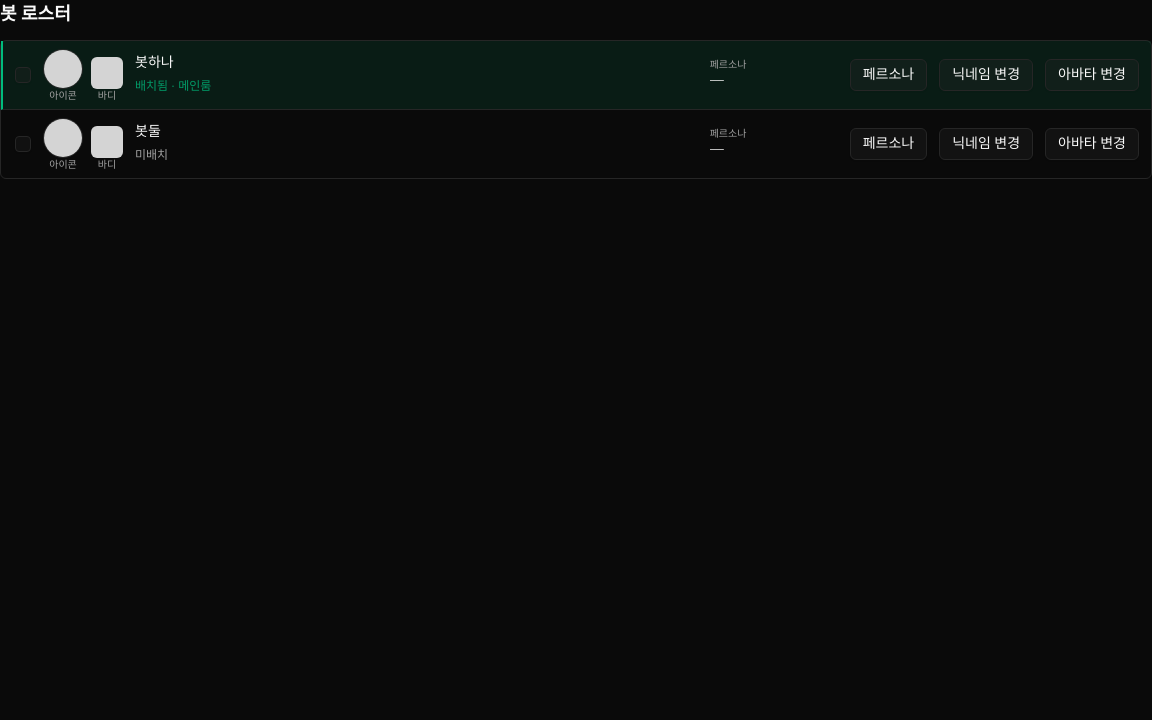
it: BotRoster › 배치된 봇 선택 시 제거 버튼 비활성 + 경고 노출
Expected: the text "봇하나" is shown, left=135, top=55, right=174, bottom=70
Click the checkbox named "봇하나 선택" at (23, 75), box left=15, top=67, right=31, bottom=83
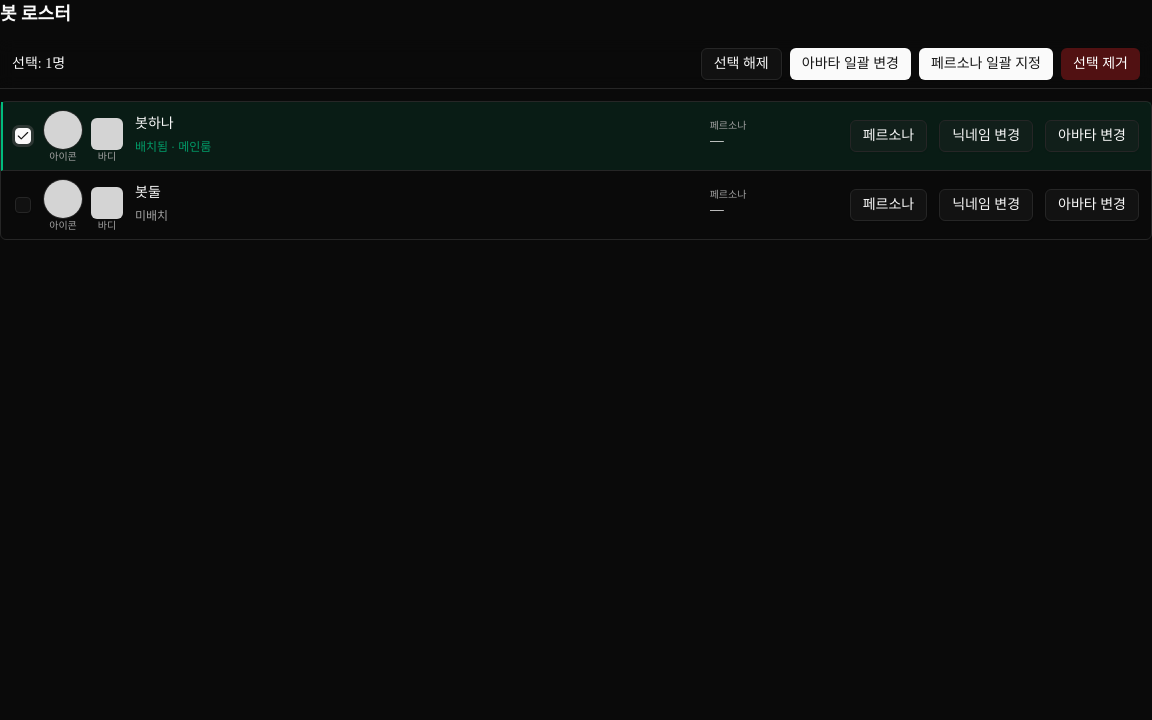
Click the button "선택 제거" at (1100, 64), box left=1061, top=48, right=1140, bottom=80
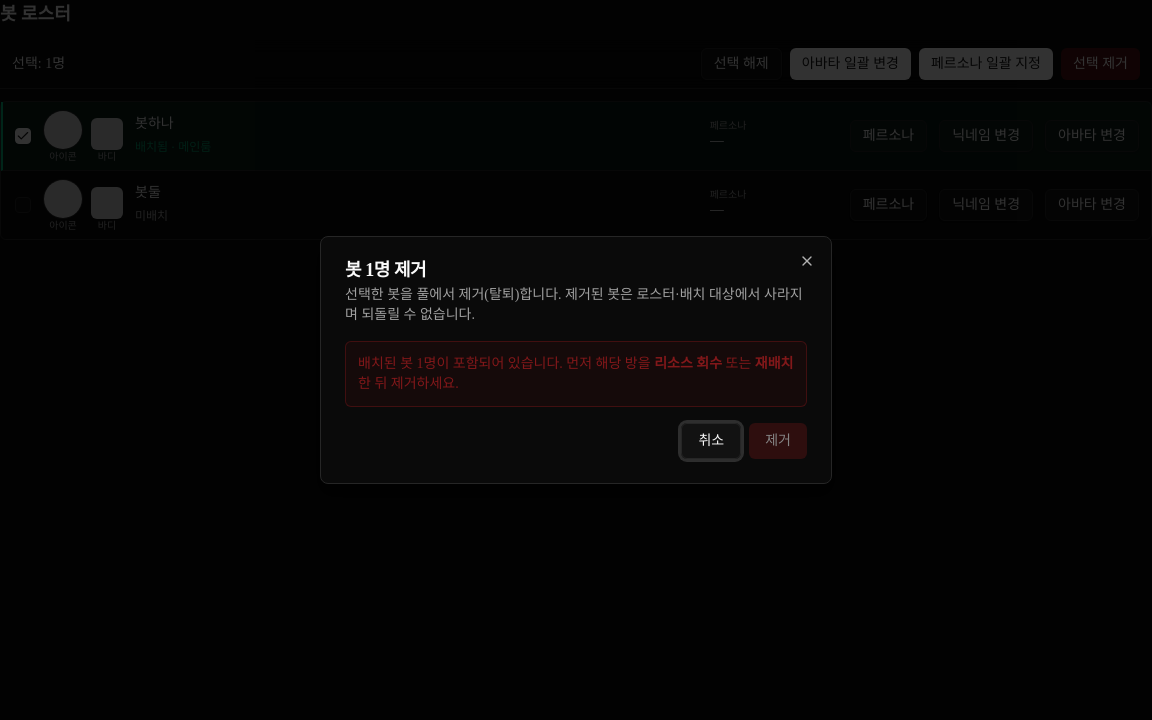
Expected: the text "먼저 해당 방을" is shown, left=424, top=356, right=654, bottom=371
Expected: the button "제거" is disabled, left=749, top=423, right=807, bottom=459
